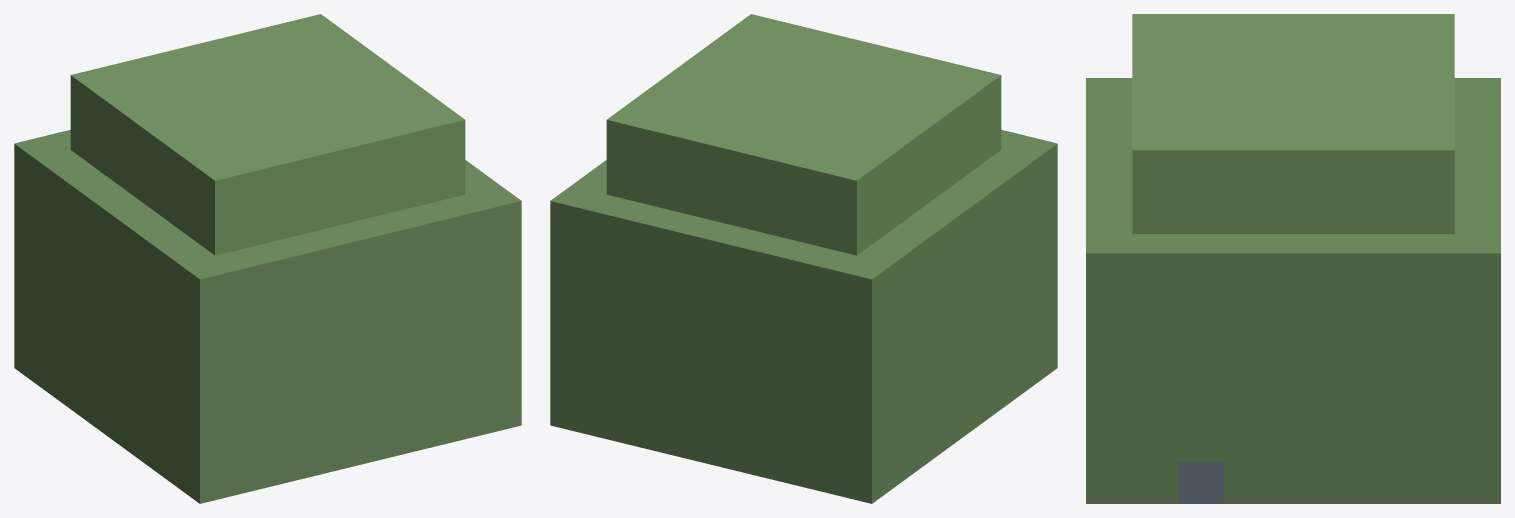
File: baya_de_enebro_02.glb
The picture shows the model from 3 angles, left to right: view 1: azimuth 30°, elevation 25°; view 2: azimuth 150°, elevation 25°; view 3: azimuth 270°, elevation 25°; orthographic projection. The views are drawn at different scales.
Parts seen in each view (by area): view 1: baya_de_enebro_02; view 2: baya_de_enebro_02; view 3: baya_de_enebro_02.
Boxes of the visible parts, <box> form: baya_de_enebro_02: <box>14,14,521,503</box>; baya_de_enebro_02: <box>550,14,1057,503</box>; baya_de_enebro_02: <box>1086,14,1500,503</box>.
Size of the model in its own units: 0.9 by 0.8 by 0.9.
